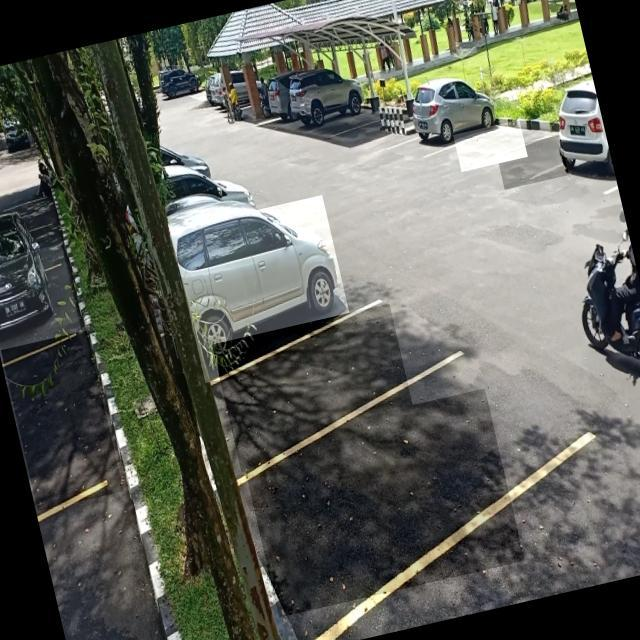empty: (239, 388, 524, 617), (212, 303, 418, 472), (0, 330, 124, 510), (496, 134, 568, 190), (452, 120, 528, 172)
occupied: (170, 195, 357, 382), (0, 243, 84, 364)
